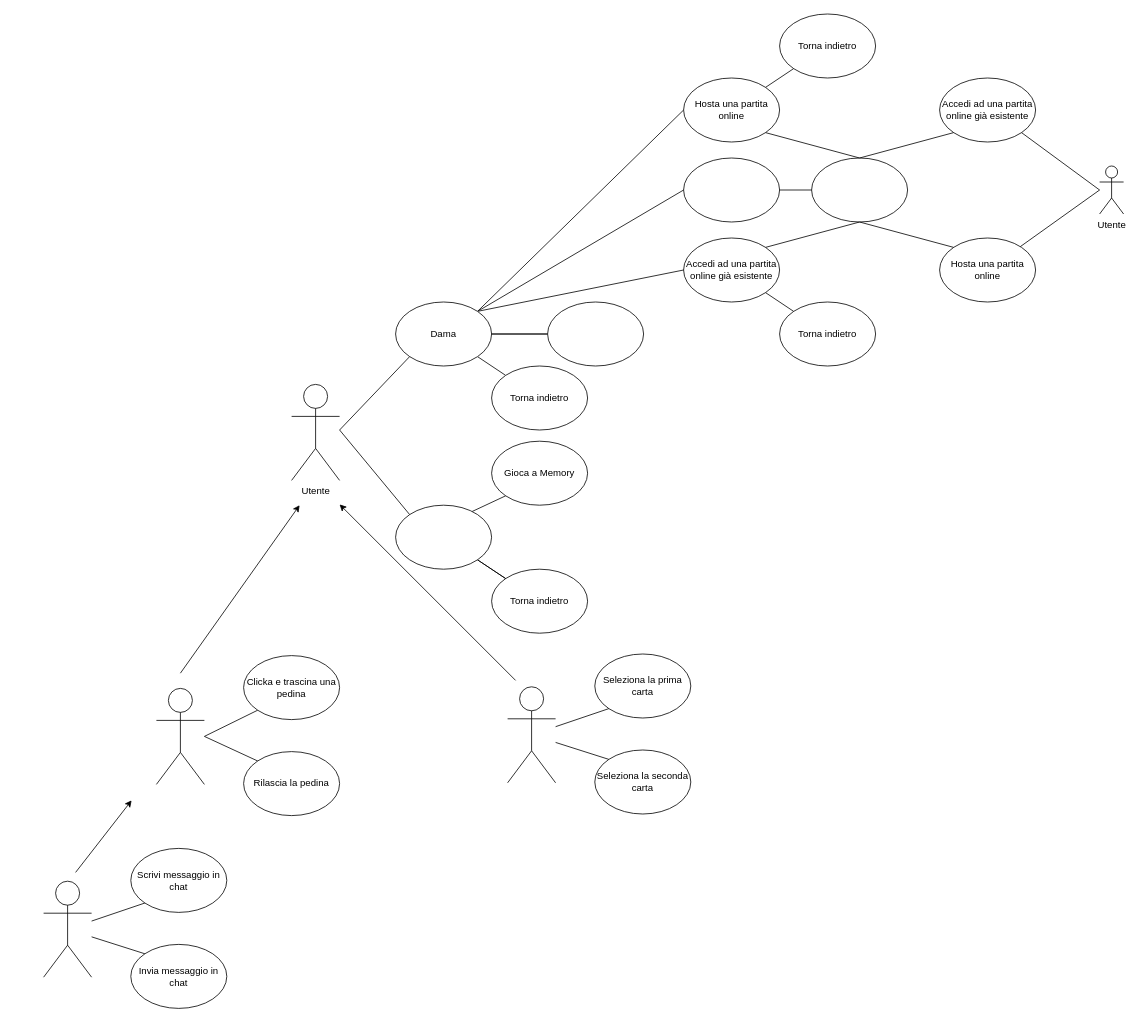
This 1139x1022 diagram has some shape labels left out. Each missing label, with the centre of its shape:
"Gioca a Dama" goes at point 859,189.
"Giocatore di Dama" goes at point 180,736.
"Giocatore di Dama online" goes at point 67,928.
"Giocatore di Memory" goes at point 531,734.
"Imposta username" goes at point 595,333.
"Memory" goes at point 443,536.
"Partita in locale" goes at point 731,189.
